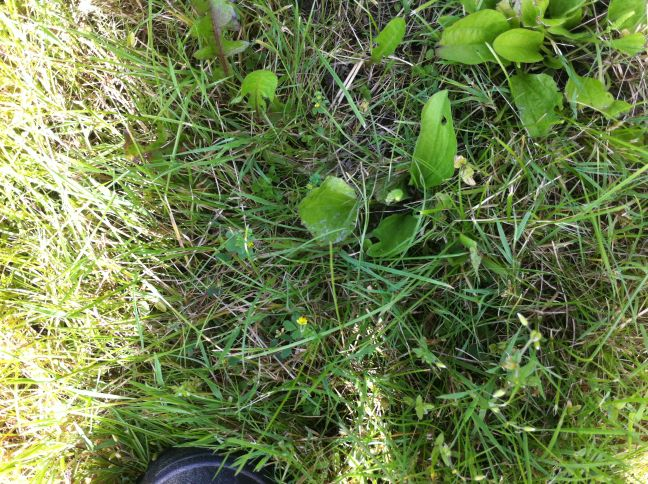weed1: (436, 1, 648, 140), (294, 87, 457, 262)
